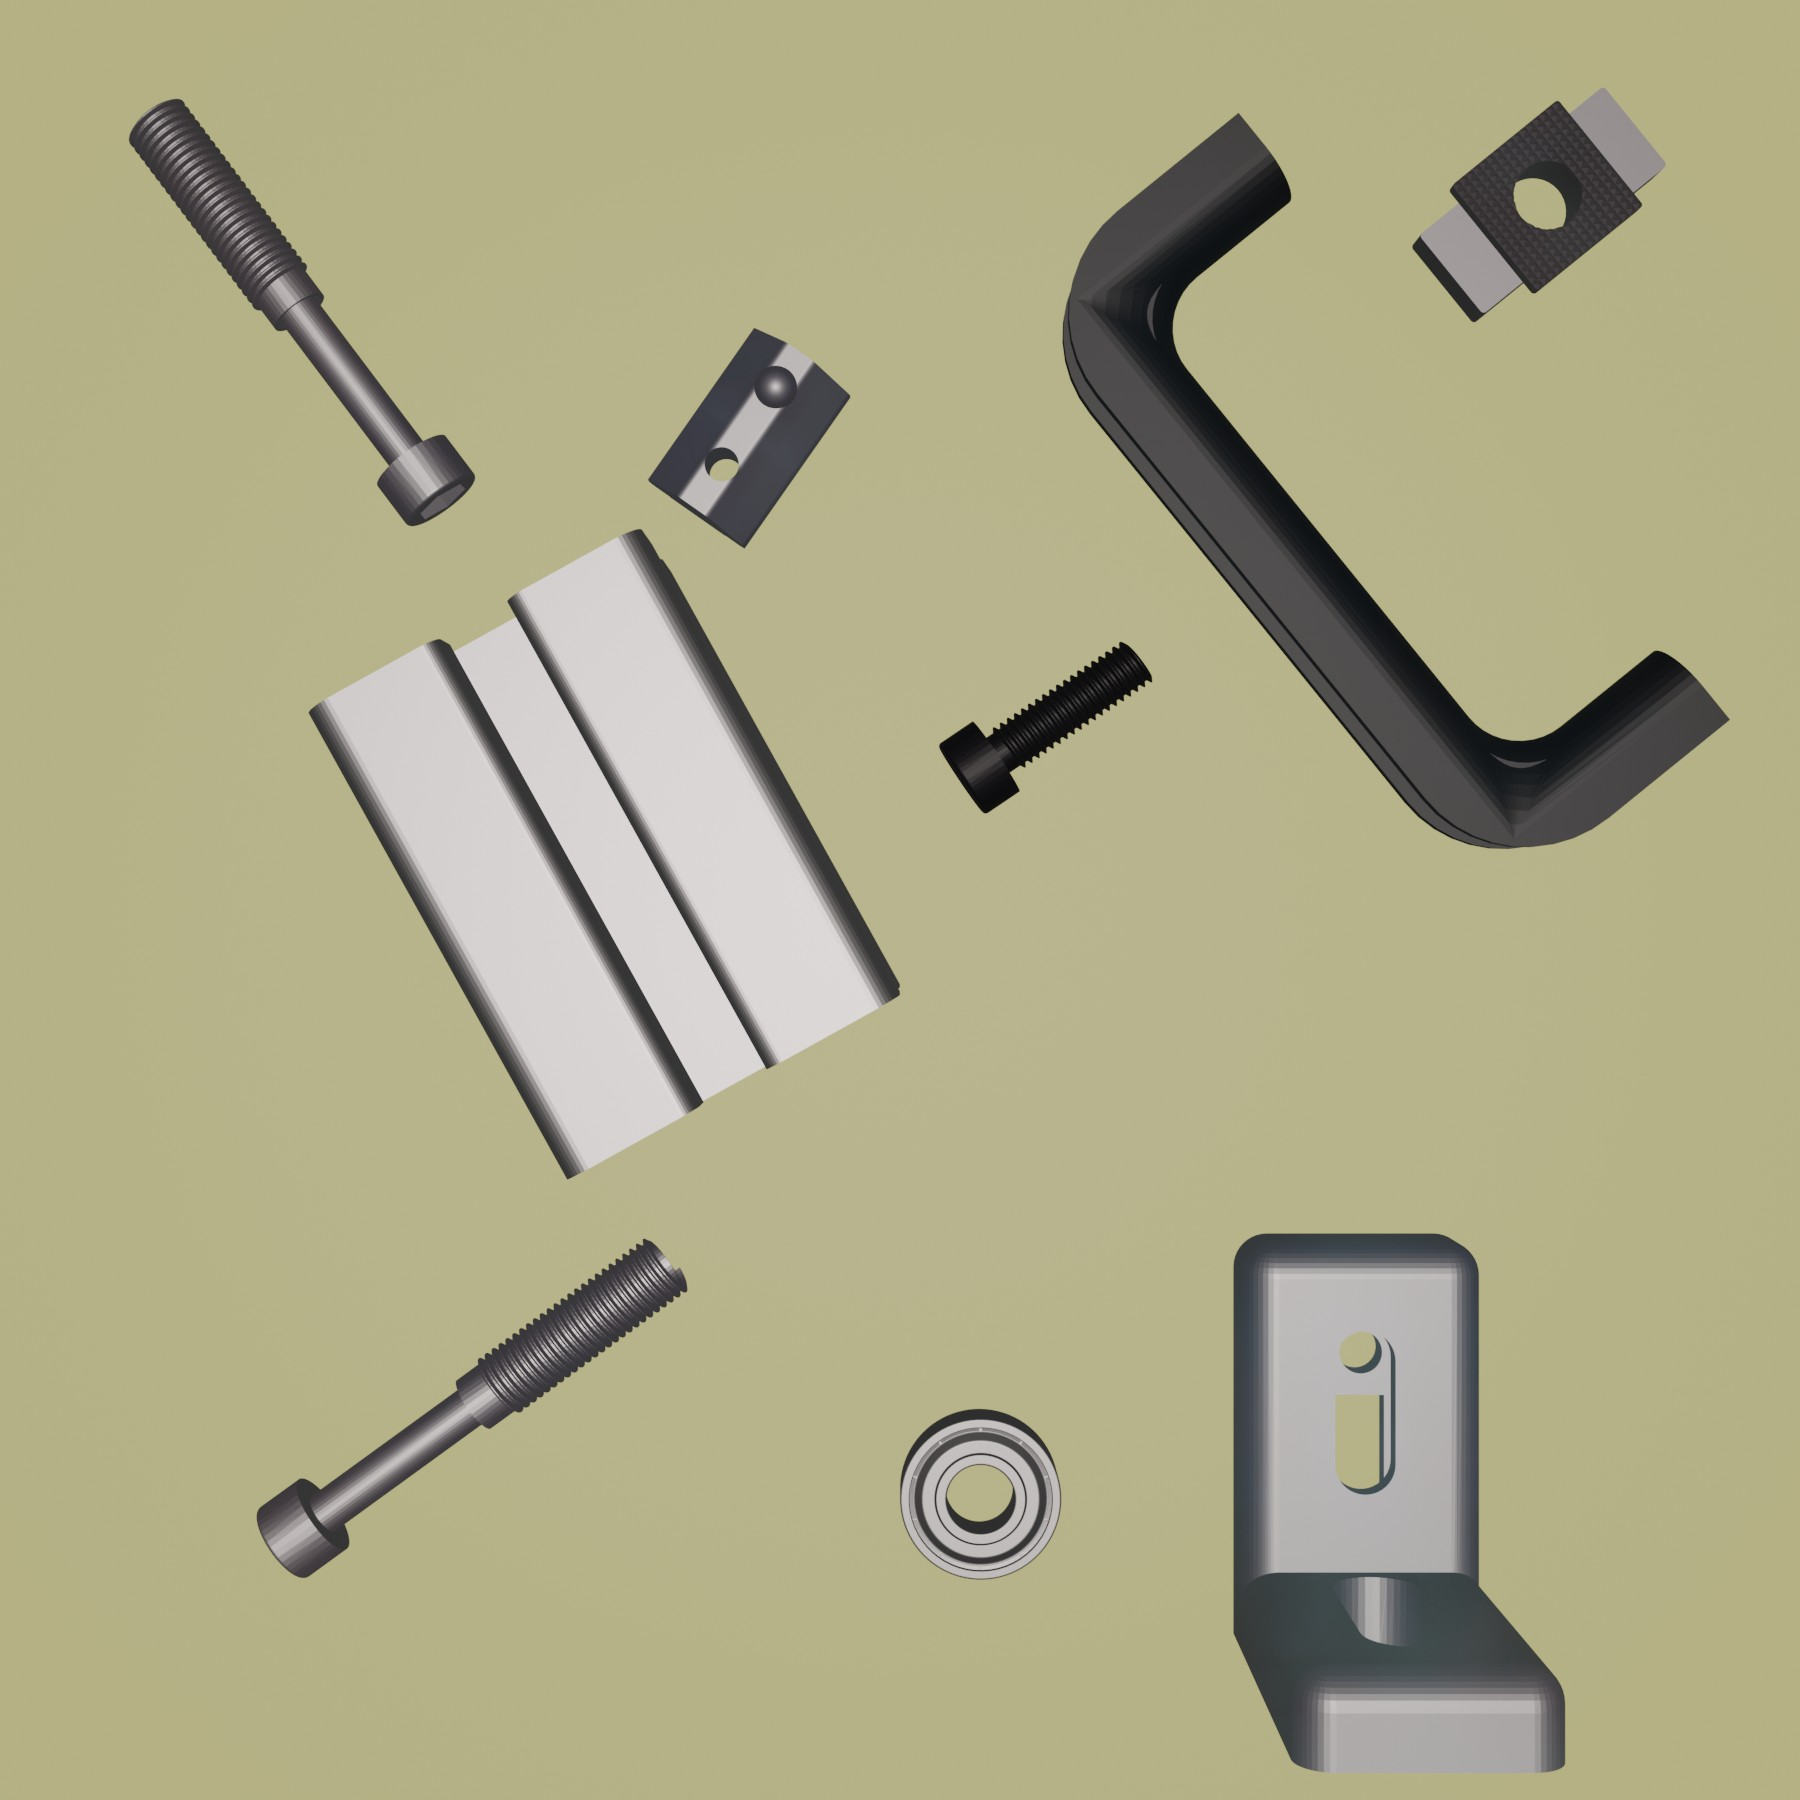Aluminium Extension: (308, 524, 903, 1182)
Ball Bearing: (897, 1404, 1066, 1584)
Multiwinkel: (1228, 1228, 1569, 1779)
Pull Handle: (1062, 107, 1731, 852)
Shoulder Socket Head Cap Screw: (129, 96, 478, 531), (255, 1235, 687, 1581)
Socket Head Cap Screw: (936, 640, 1155, 814)
T Nut Square: (1413, 81, 1671, 326)
T Spring Nut: (646, 326, 852, 551)
